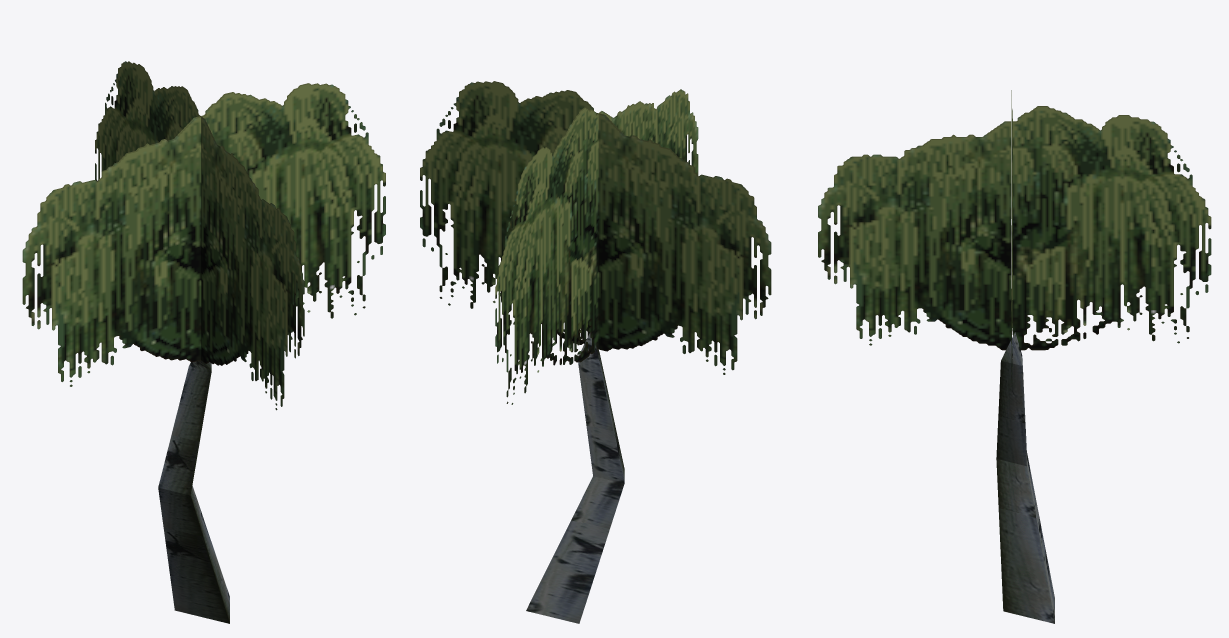
Rendered from Tree72.fbx.
3 renders of one model, left to right at view 1: azimuth 30°, elevation 25°; view 2: azimuth 150°, elevation 25°; view 3: azimuth 270°, elevation 25°, orthographic. The views are drawn at different scales.
Visible parts, largest first — view 1: lomb, torzs; view 2: lomb, torzs; view 3: lomb, torzs.
Boxes of the visible parts, x1,y1,x2,y2 form: lomb: (22, 61, 385, 410); torzs: (158, 360, 229, 623); lomb: (420, 81, 771, 404); torzs: (526, 333, 624, 623); lomb: (818, 90, 1211, 382); torzs: (996, 332, 1054, 623).
Size of the model in its own units: 40 by 54.39 by 40.
